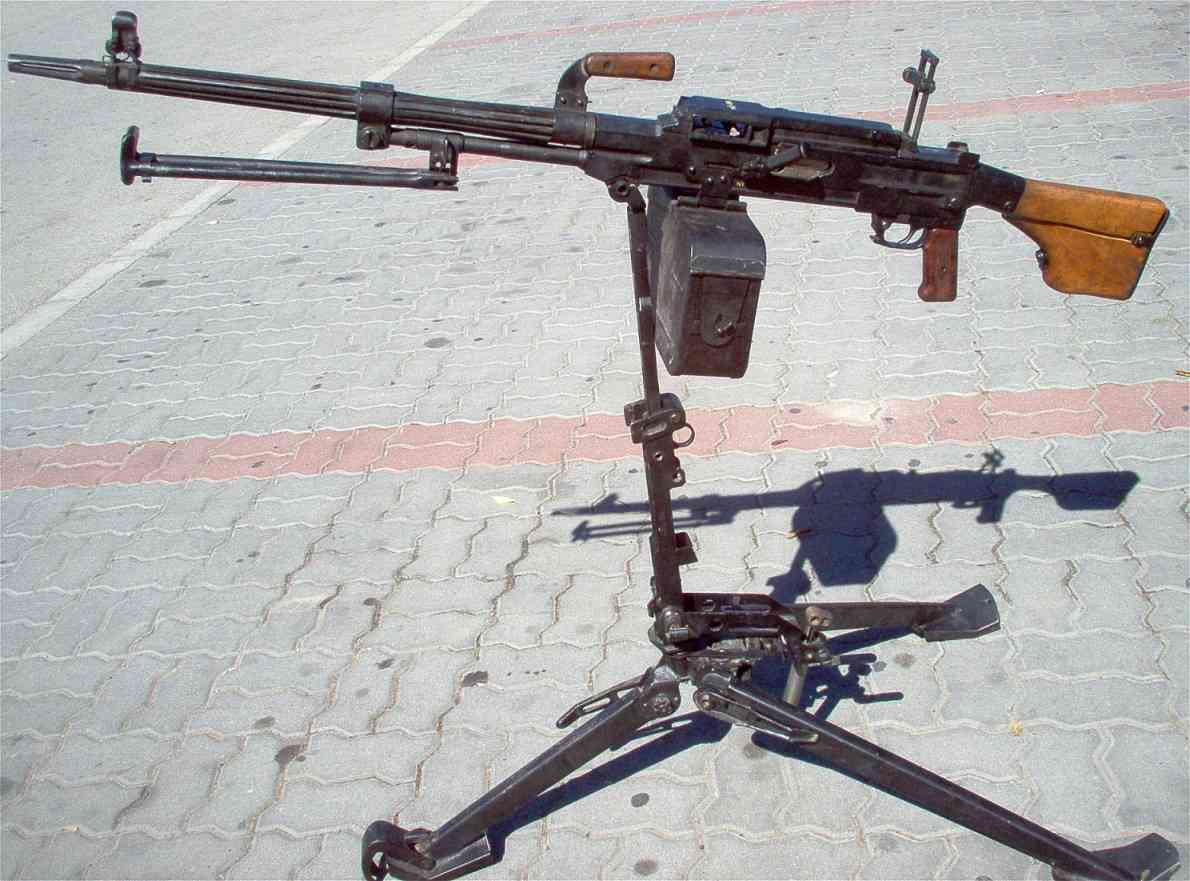rifle: (22, 25, 1167, 367)
